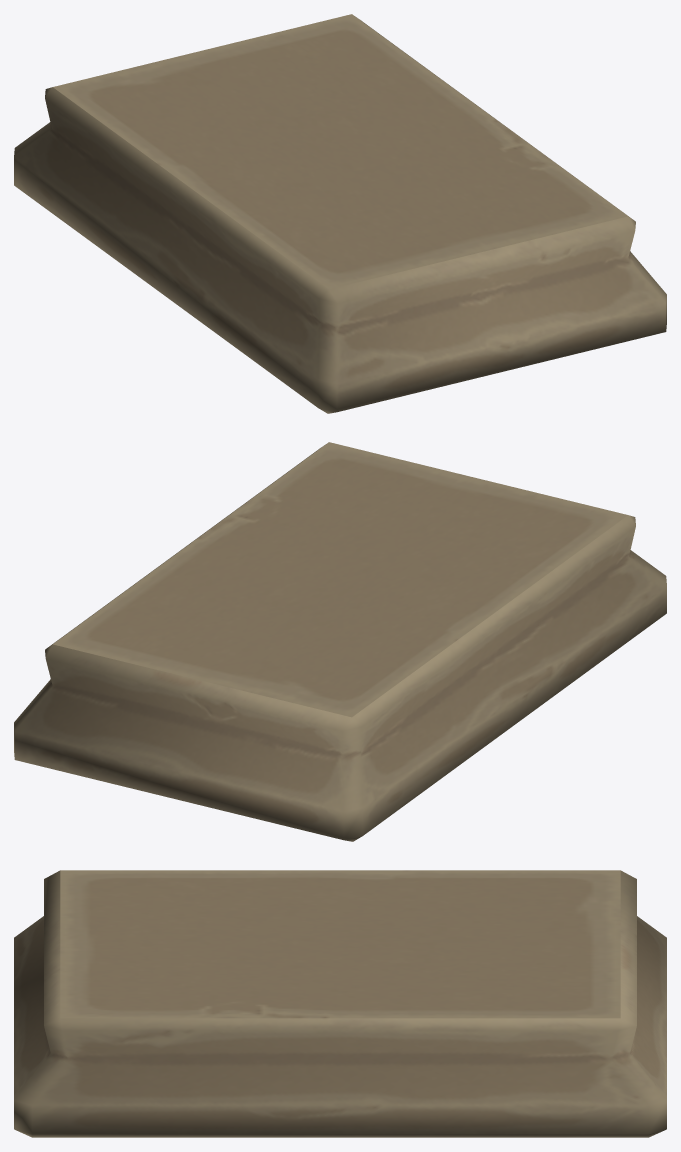
File: ARC0510069.fbx
3 renders of one model, top to bottom at view 1: azimuth 30°, elevation 25°; view 2: azimuth 150°, elevation 25°; view 3: azimuth 270°, elevation 25°, orthographic.
Parts seen in each view (by area): view 1: smARC0510069; view 2: smARC0510069; view 3: smARC0510069.
Boxes of the visible parts, bbox=[...] form: smARC0510069: bbox=[14, 14, 666, 413]; smARC0510069: bbox=[14, 442, 666, 841]; smARC0510069: bbox=[14, 870, 666, 1137].
Bounding box in the file's own units: 75.22 × 22.8 × 120.
Materials: 1 (1 with a texture image).
